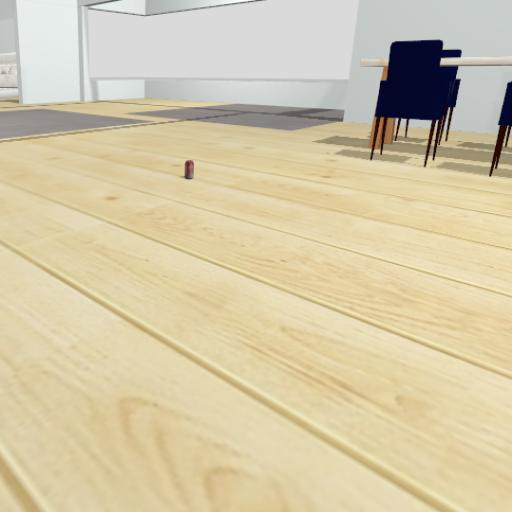COCA: (175, 145, 210, 191)
